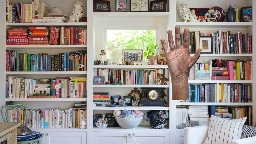Mano_aperta: (159, 22, 203, 79)
